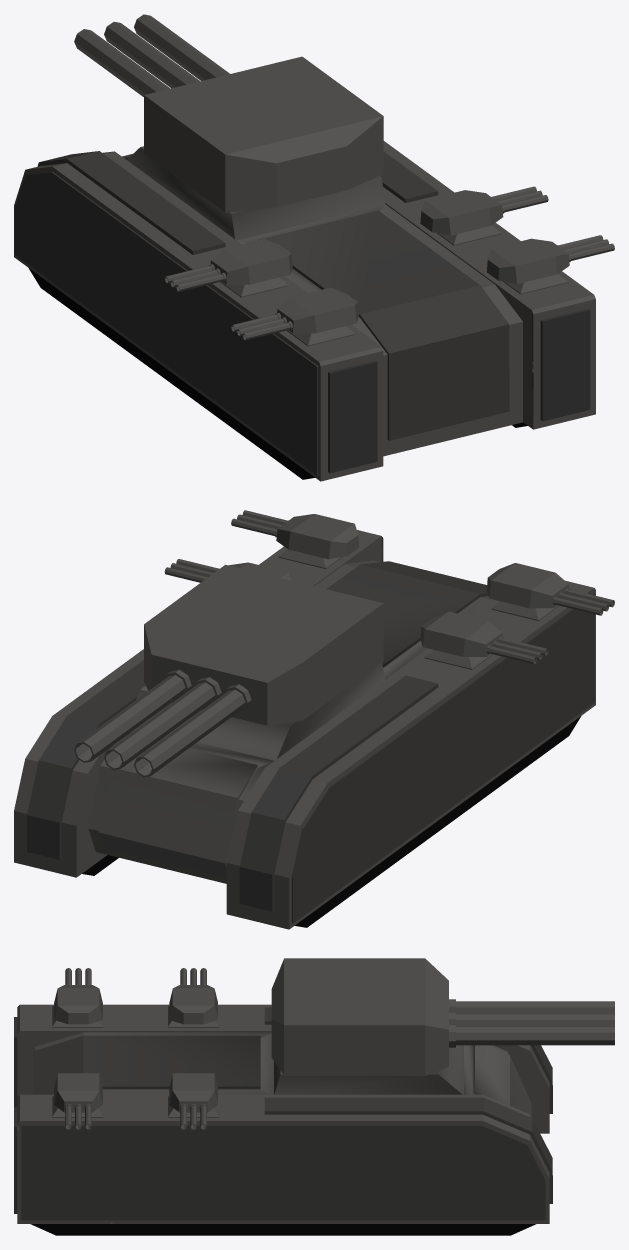
File: EnemyRatte.fbx
The picture shows the model from 3 angles, top to bottom: view 1: azimuth 30°, elevation 25°; view 2: azimuth 150°, elevation 25°; view 3: azimuth 270°, elevation 25°; orthographic projection. The views are drawn at different scales.
Visible parts, largest first — view 1: Cube.004; view 2: Cube.004; view 3: Cube.004.
Part boxes in pixels (<box>): Cube.004: <box>14,14,614,481</box>; Cube.004: <box>14,510,614,929</box>; Cube.004: <box>14,958,614,1235</box>.
Bounding box in the file's own units: 1110 × 621 × 1807.
1 material, 1 textured.
